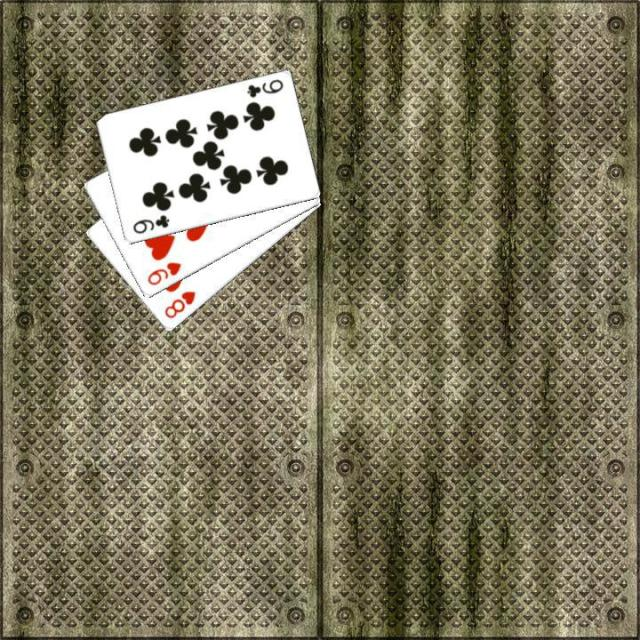8H: (160, 287, 197, 321)
9C: (129, 210, 171, 237), (242, 76, 284, 100)
9H: (143, 259, 183, 287)
